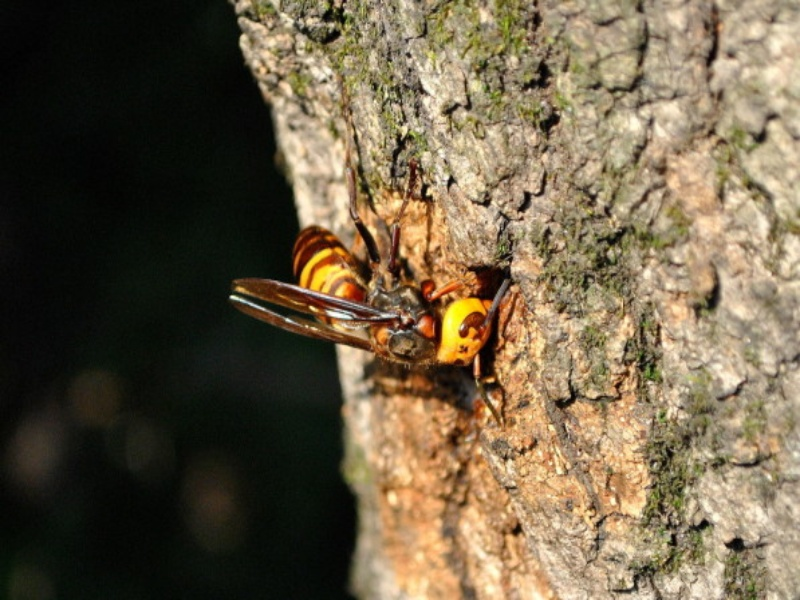asian_giant_hornet: (288, 218, 508, 392)
